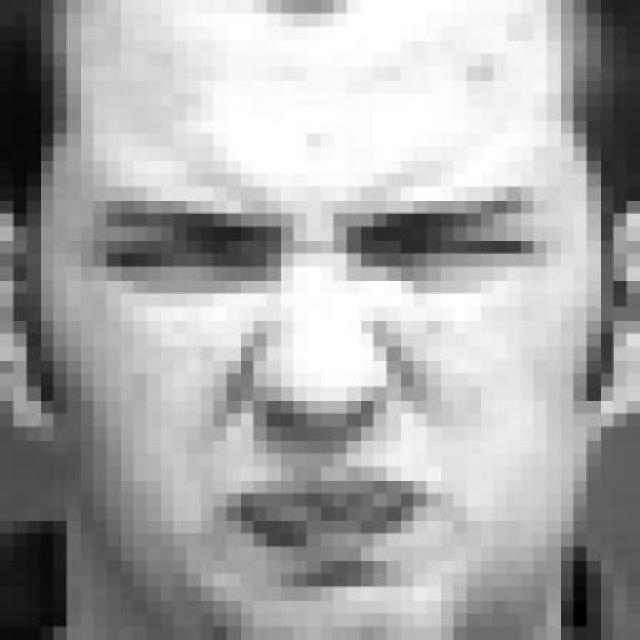disgust: (0, 0, 622, 640)
